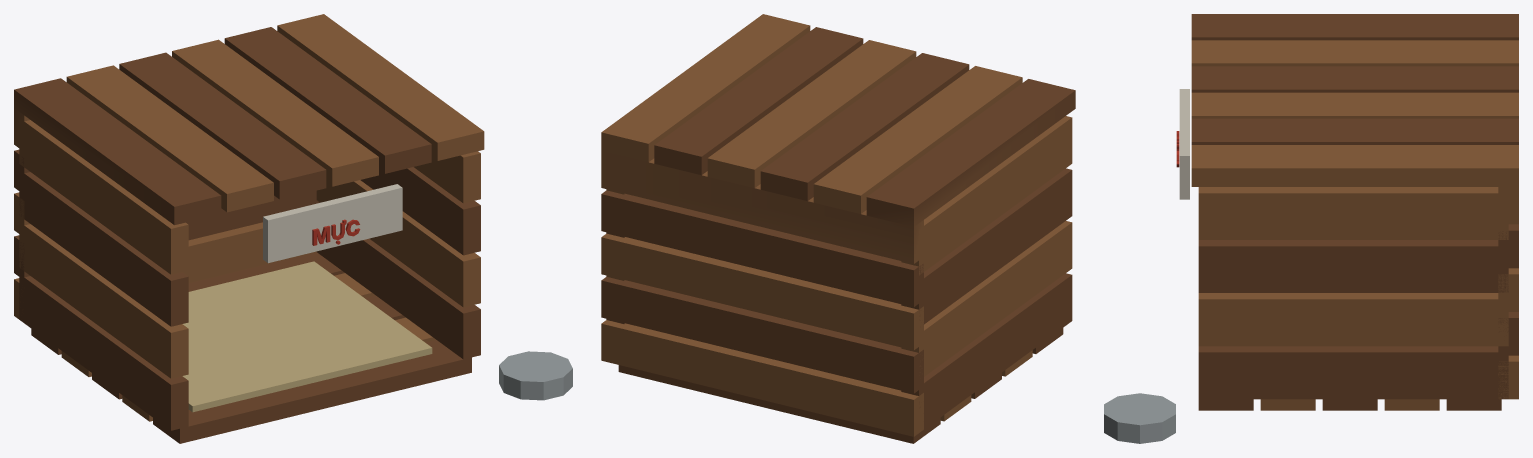
The model's file is o_cho.glb.
3 renders of one model, left to right at view 1: azimuth 30°, elevation 25°; view 2: azimuth 150°, elevation 25°; view 3: azimuth 270°, elevation 25°, orthographic. The views are drawn at different scales.
Visible parts, largest first — view 1: o_cho; view 2: o_cho; view 3: o_cho.
Boxes of the visible parts, x1=… form: o_cho: x1=14, y1=14, x2=572, y2=443; o_cho: x1=601, y1=14, x2=1075, y2=443; o_cho: x1=1104, y1=14, x2=1518, y2=443.
Bounding box in the file's own units: 1.26 × 0.79 × 1.2.
